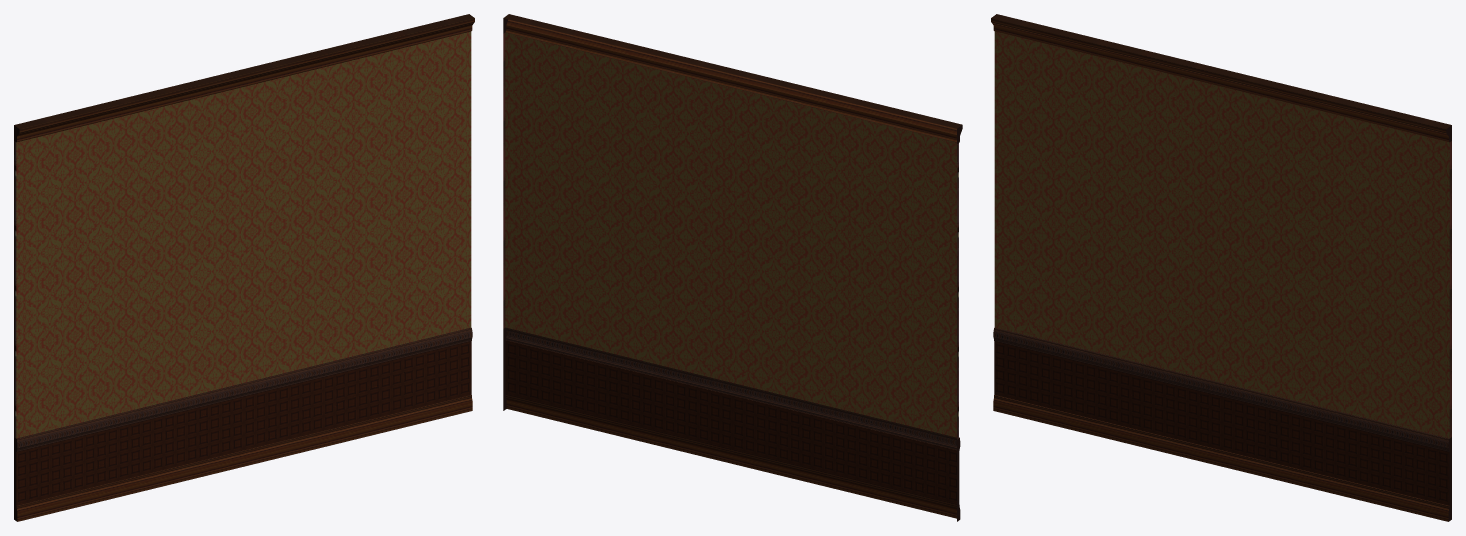
File: Wall_DinningRoom_Long.fbx
3 renders of one model, left to right at view 1: azimuth 30°, elevation 25°; view 2: azimuth 150°, elevation 25°; view 3: azimuth 330°, elevation 25°, orthographic.
Parts seen in each view (by area): view 1: WallSectionDiningRoom_Long; view 2: WallSectionDiningRoom_Long; view 3: WallSectionDiningRoom_Long.
Boxes of the visible parts, x1,y1,x2,y2 form: WallSectionDiningRoom_Long: (14,14,474,521); WallSectionDiningRoom_Long: (503,14,962,521); WallSectionDiningRoom_Long: (991,14,1451,521).
Bounding box in the file's own units: 738 × 611 × 15.9.
